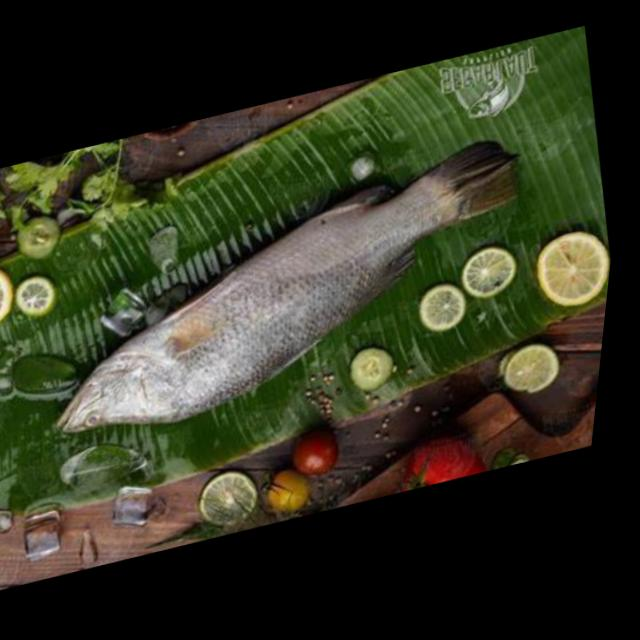Seabass: (18, 130, 555, 451)
